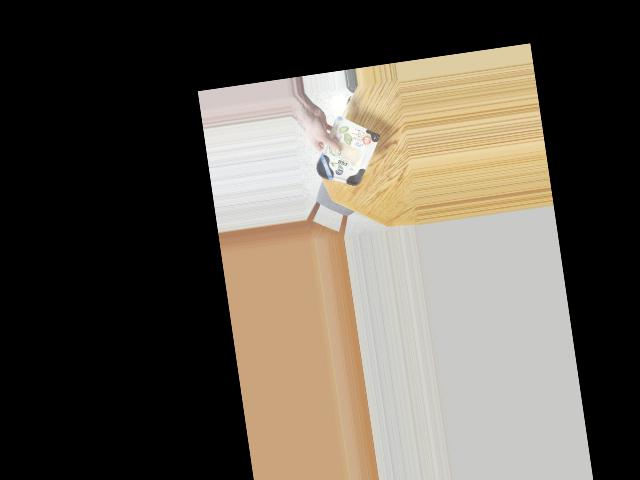cheese: (310, 120, 381, 195)
